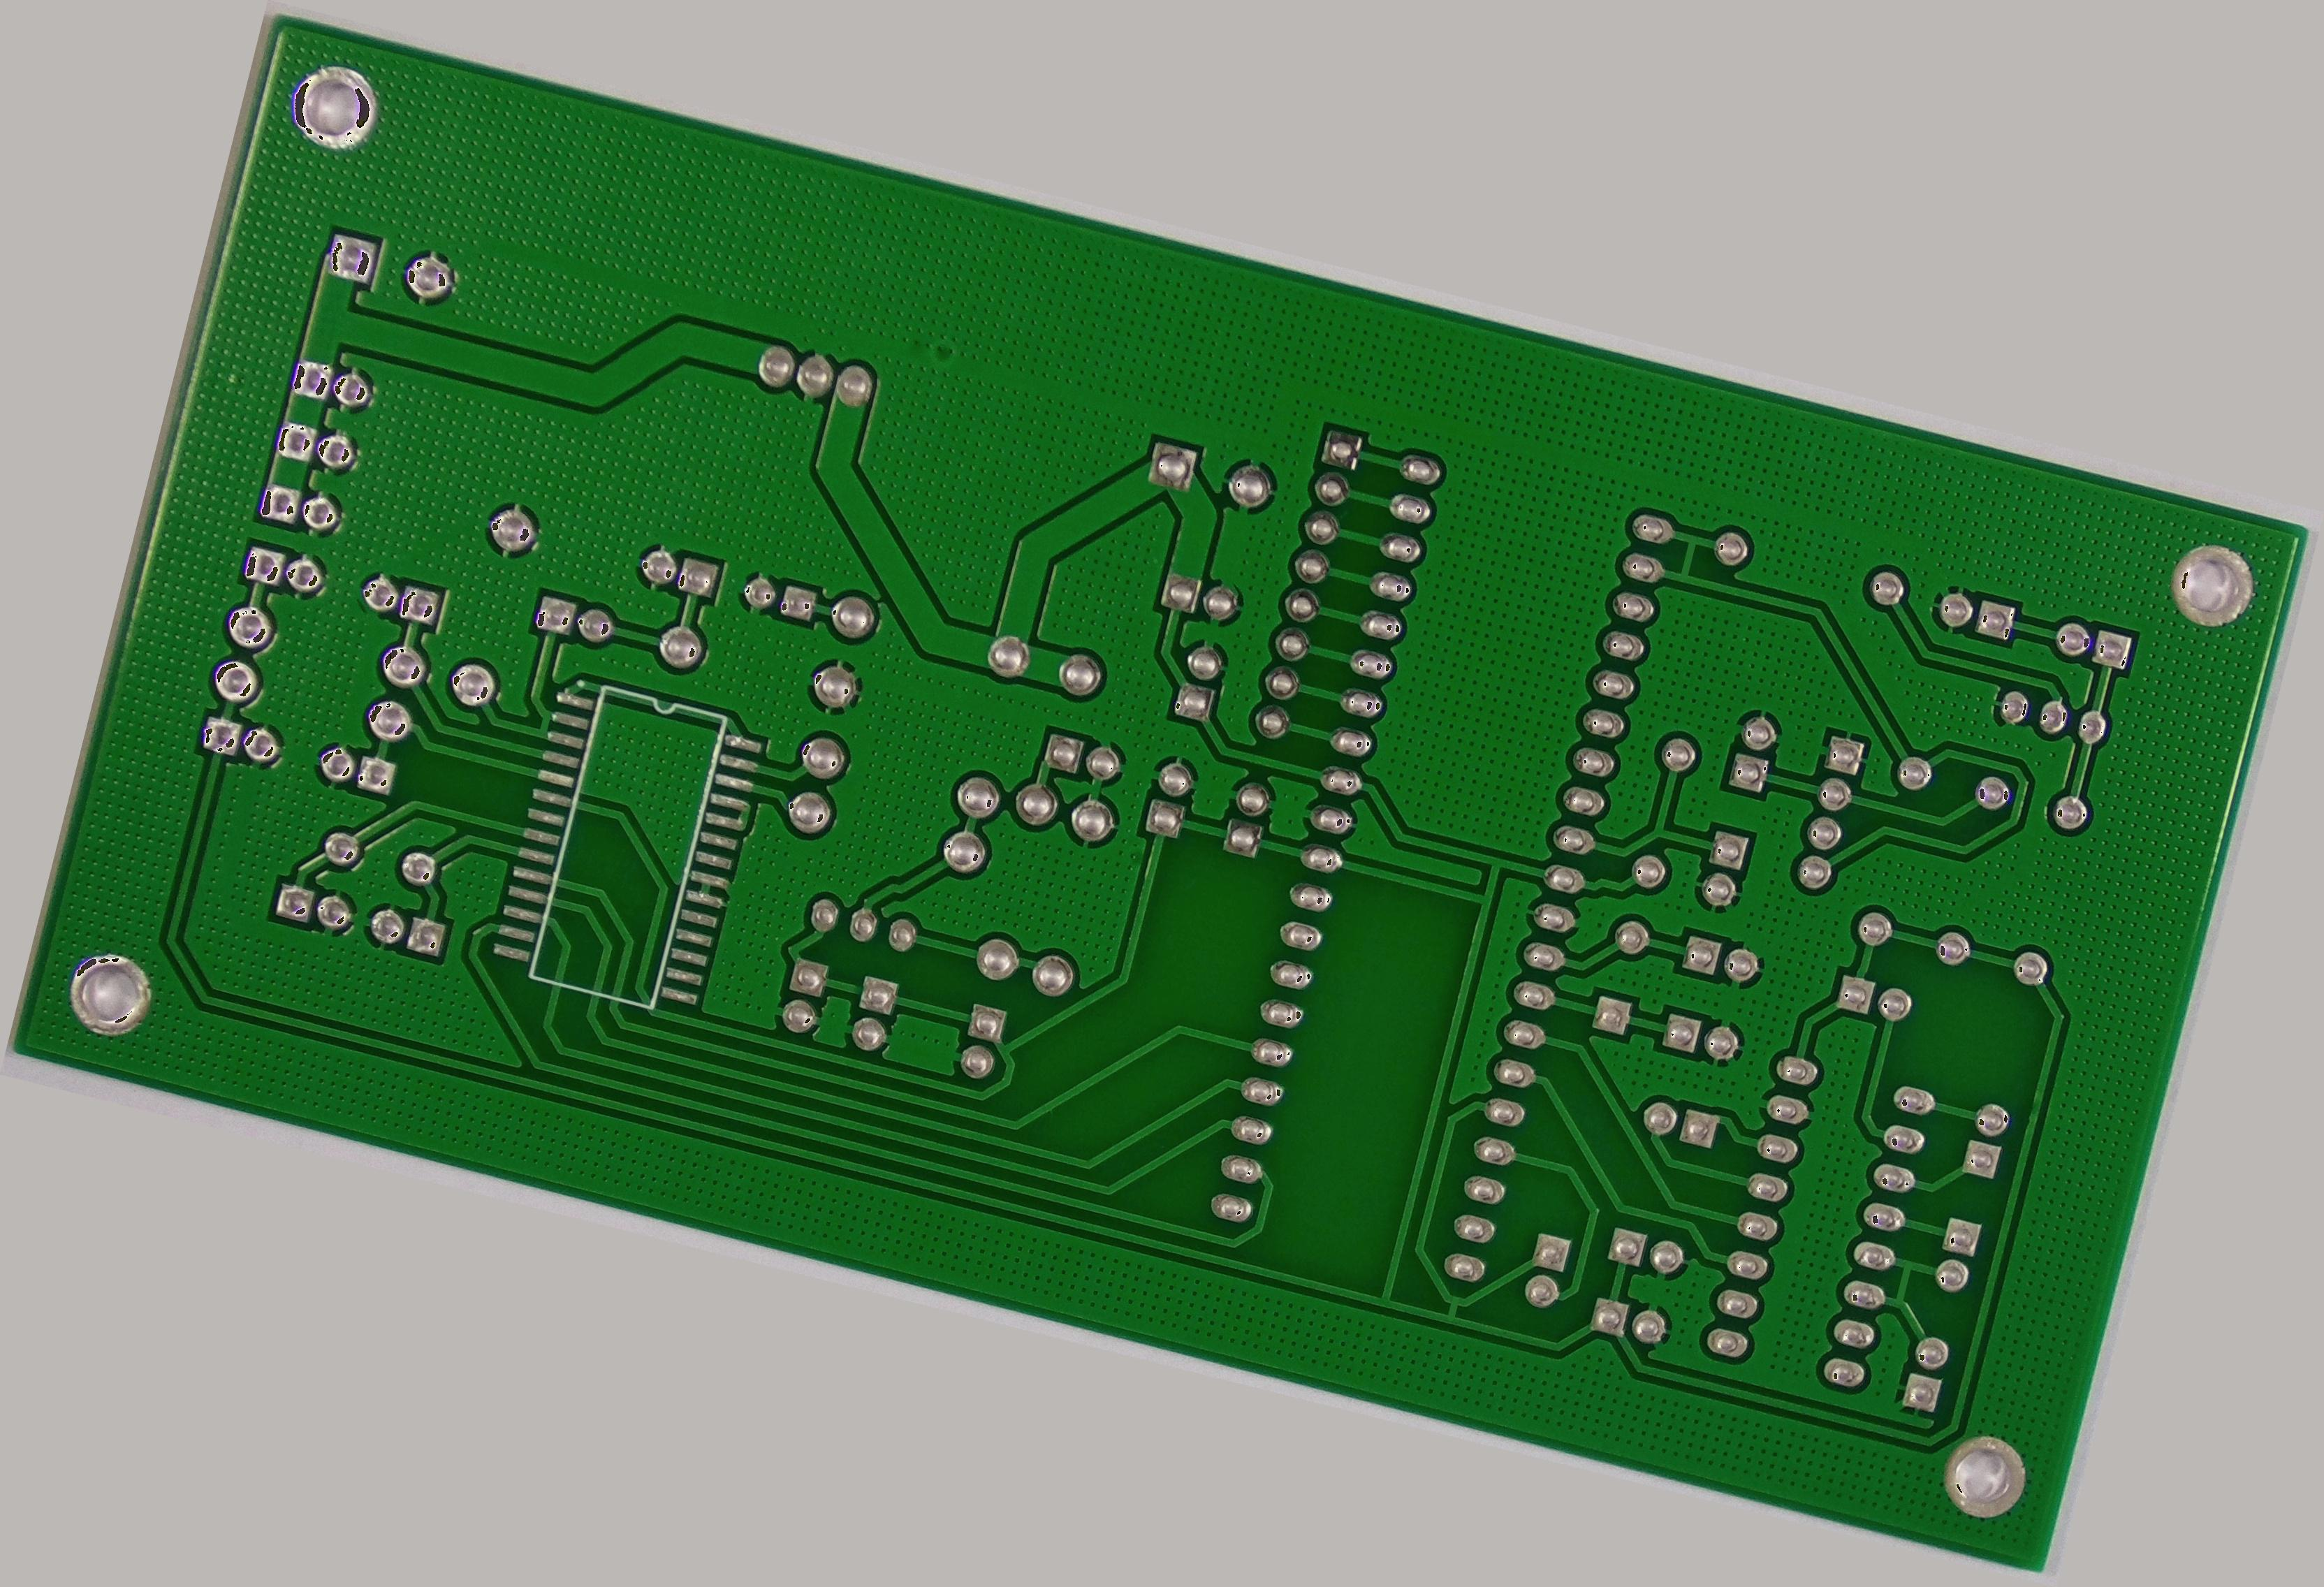short: (1868, 1239, 1946, 1329), (1422, 1278, 1483, 1336), (523, 697, 563, 741)
